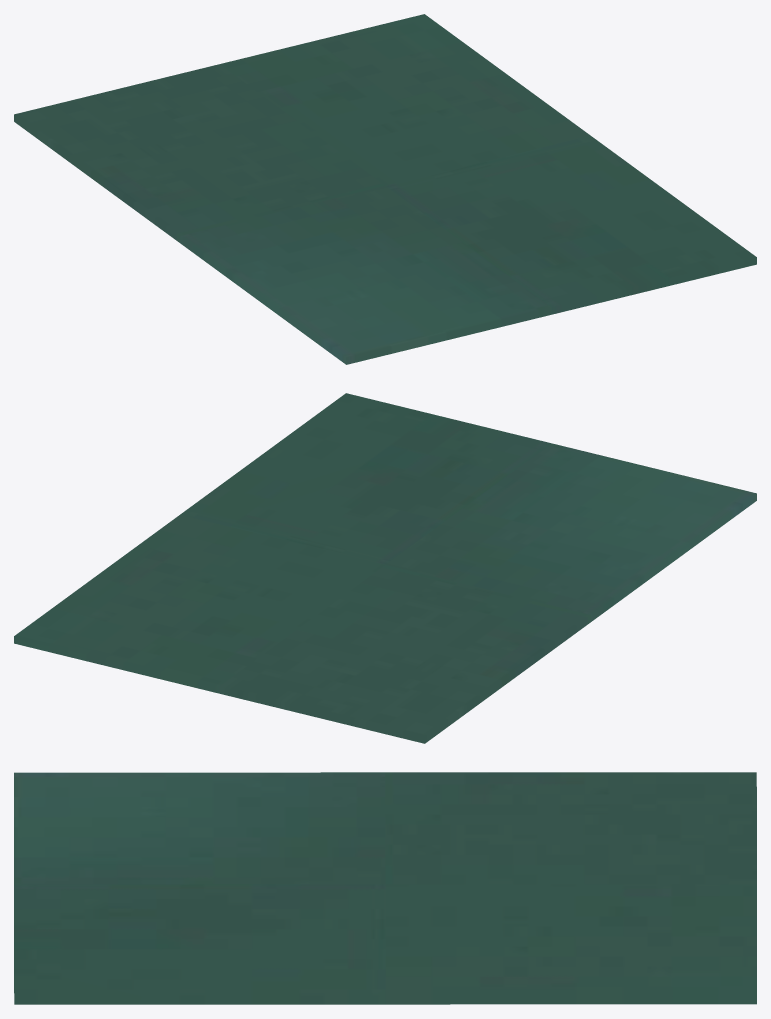
3 renders of one model, top to bottom at view 1: azimuth 30°, elevation 25°; view 2: azimuth 150°, elevation 25°; view 3: azimuth 270°, elevation 25°, orthographic. The views are drawn at different scales.
Visible parts, largest first — view 1: 30436272704370635712_0; view 2: 30436272704370635712_0; view 3: 30436272704370635712_0.
Boxes of the visible parts, <box> form: 30436272704370635712_0: <box>14,14,756,364</box>; 30436272704370635712_0: <box>14,393,756,743</box>; 30436272704370635712_0: <box>14,772,756,1004</box>.
Size of the model in its own units: 27.32 by 0.4799 by 38.26.
Materials: 1 (1 with a texture image).
